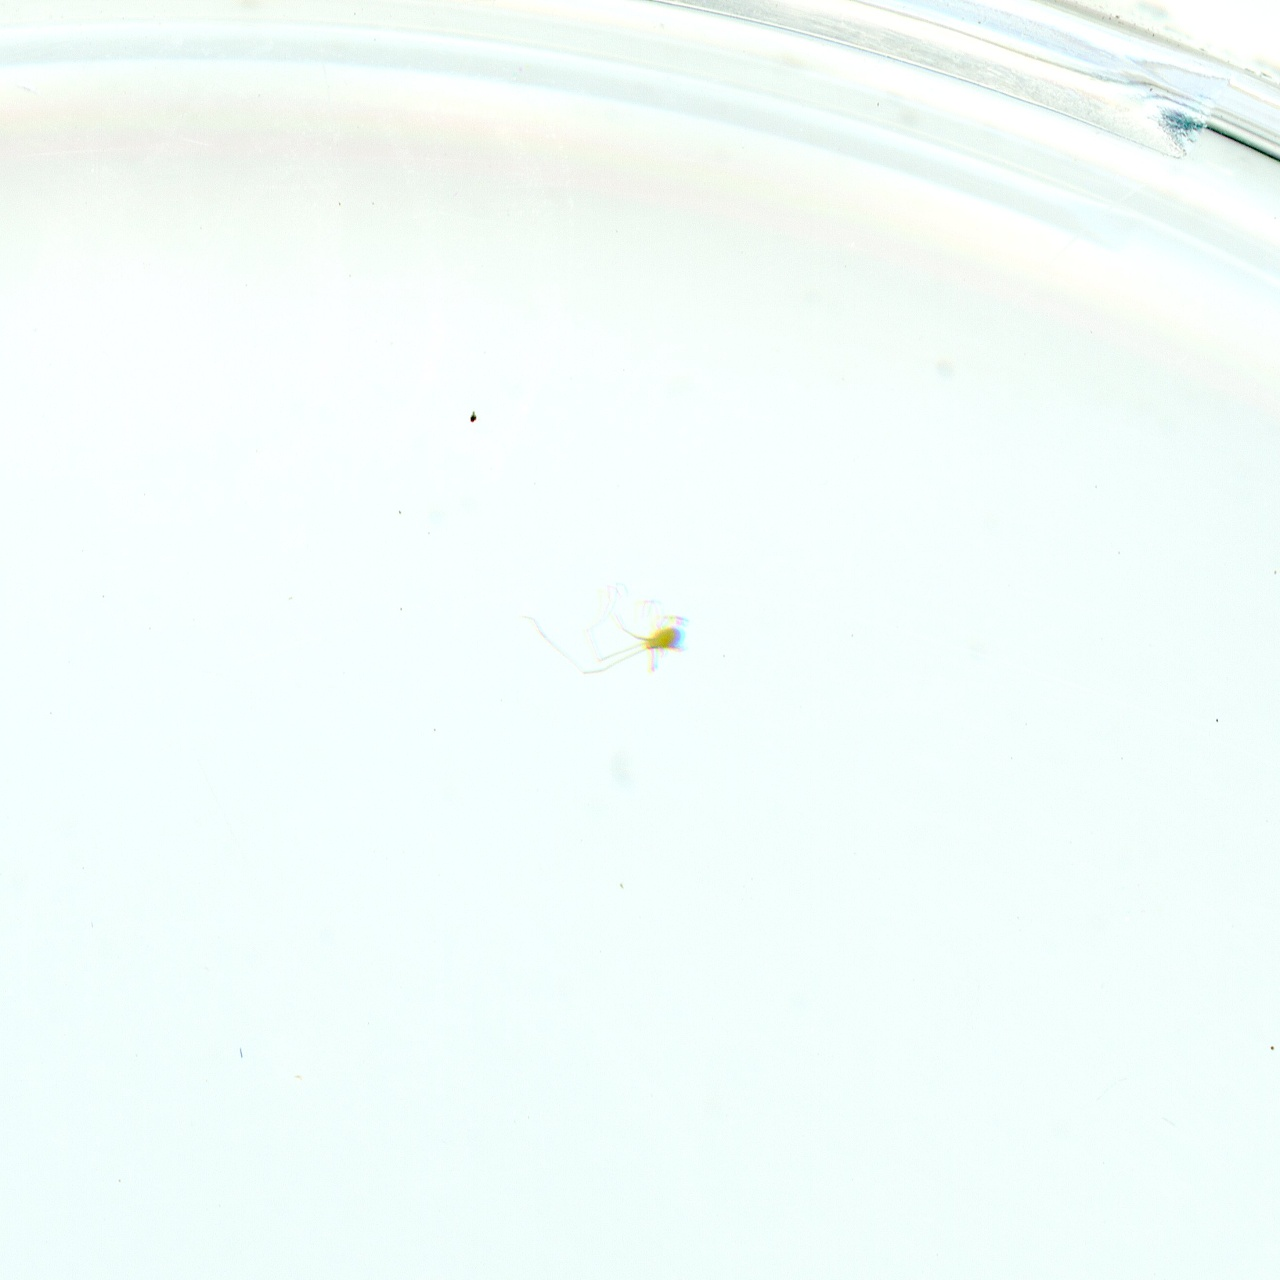arthropod: (479, 576, 694, 689)
